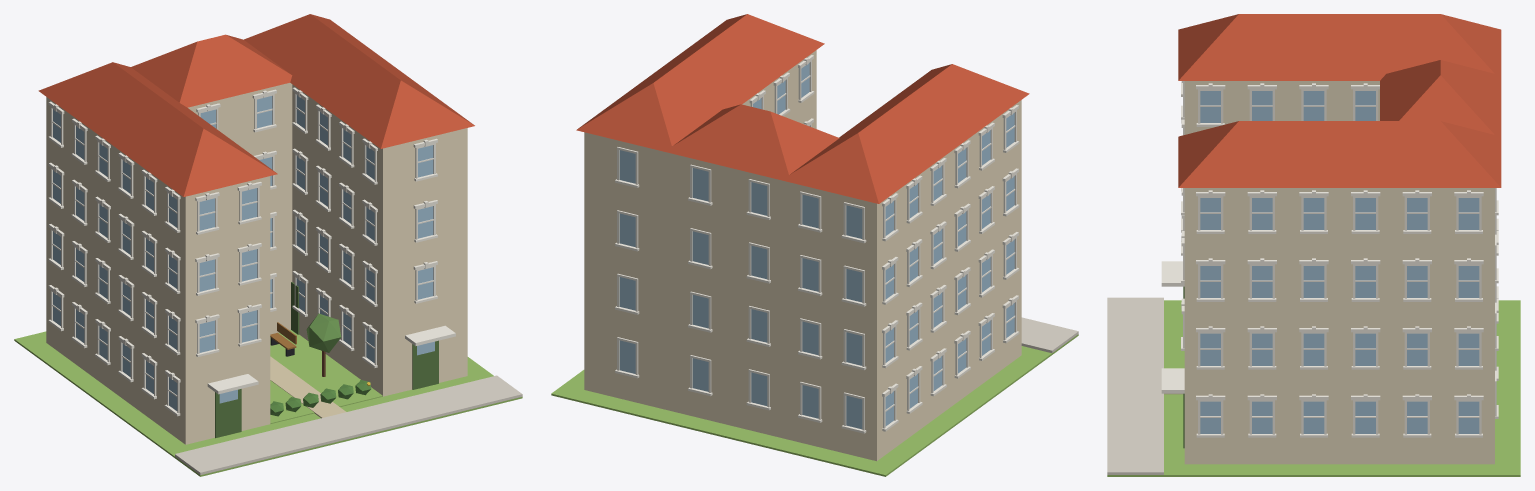
File: Konut_avlulu_blok_3_Hafif.fbx
3 renders of one model, left to right at view 1: azimuth 30°, elevation 25°; view 2: azimuth 150°, elevation 25°; view 3: azimuth 270°, elevation 25°, orthographic. The views are drawn at different scales.
Parts seen in each view (by area): view 1: Konut_avlulu_blok_3_Hafif; view 2: Konut_avlulu_blok_3_Hafif; view 3: Konut_avlulu_blok_3_Hafif.
Part boxes in pixels (x1,y1,x2,y2): Konut_avlulu_blok_3_Hafif: (14,14,522,476); Konut_avlulu_blok_3_Hafif: (551,14,1078,476); Konut_avlulu_blok_3_Hafif: (1107,14,1520,476).
Bounding box in the file's own units: 16 × 13.76 × 16.
